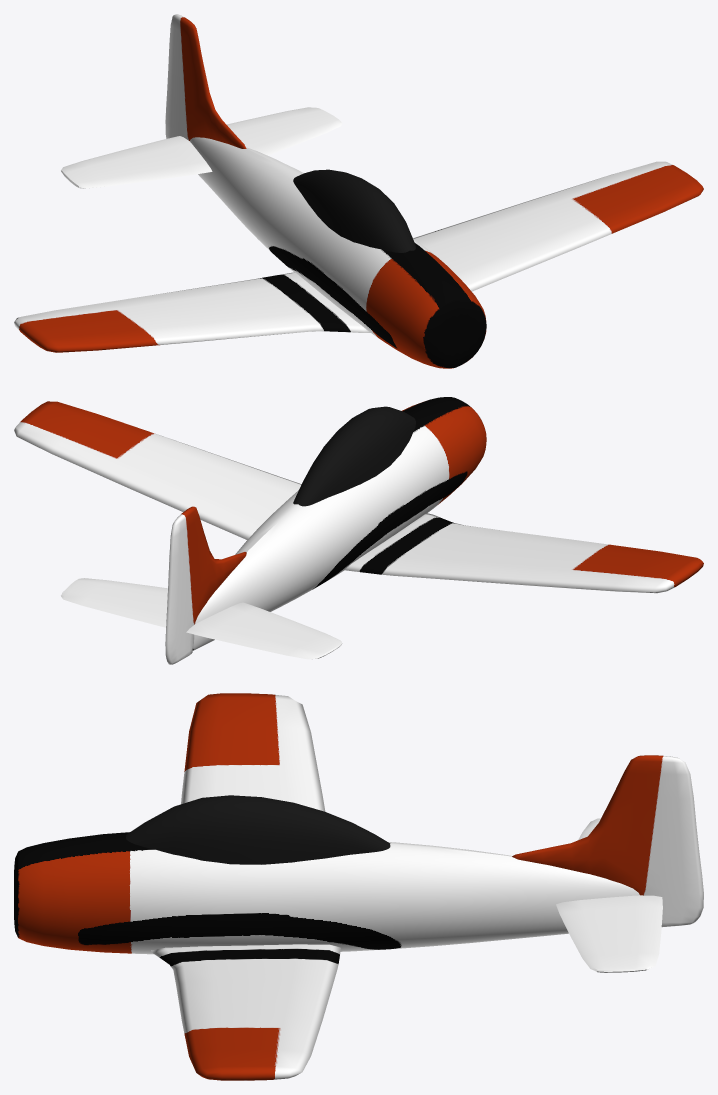
3 renders of one model, top to bottom at view 1: azimuth 30°, elevation 25°; view 2: azimuth 150°, elevation 25°; view 3: azimuth 270°, elevation 25°, orthographic. The views are drawn at different scales.
Visible parts, largest first — view 1: Wing, Body, Horizontal Stabiliser, Canopy, Vertical Stabiliser; view 2: Wing, Body, Horizontal Stabiliser, Canopy, Vertical Stabiliser; view 3: Body, Wing, Vertical Stabiliser, Canopy, Horizontal Stabiliser.
Boxes of the visible parts, x1,y1,x2,y2 form: Wing: (14,161,703,352); Body: (190,137,486,368); Horizontal Stabiliser: (61,107,342,188); Canopy: (293,169,415,252); Vertical Stabiliser: (165,14,246,148); Wing: (14,401,703,593); Body: (192,397,486,650); Horizontal Stabiliser: (61,578,342,659); Canopy: (293,406,415,506); Vertical Stabiliser: (165,506,246,664); Body: (14,832,639,954); Wing: (151,693,340,1080); Vertical Stabiliser: (512,755,703,927); Canopy: (126,795,390,864); Horizontal Stabiliser: (556,818,662,972).
Bounding box in the file's own units: 0.6456 × 0.1548 × 0.4947.
Materials: 5 (3 with a texture image).
